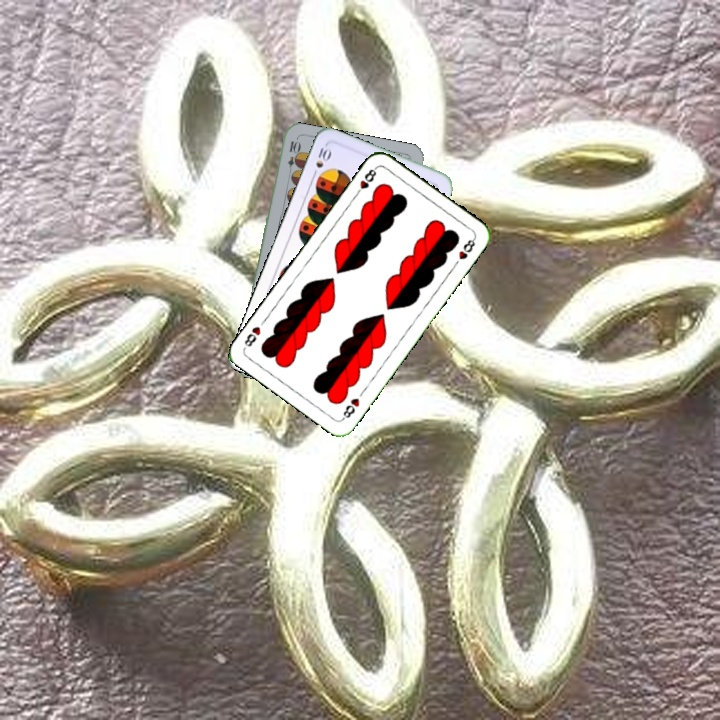E10: (283, 136, 301, 177)
H8: (351, 163, 380, 199), (338, 394, 362, 422)
S10: (308, 143, 334, 180)
